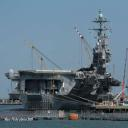Portanaves: (6, 9, 122, 113)
